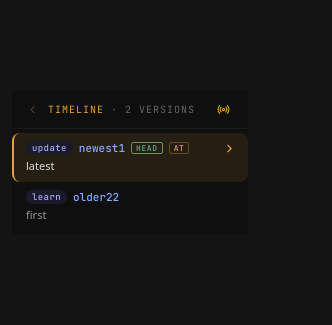
Test: starts with the active commit collapsed; clicking toggles it (no scrub)
Expected: the text "Sib" is not shown
Click the text "latest" at (40, 166), box left=26, top=158, right=54, bottom=173
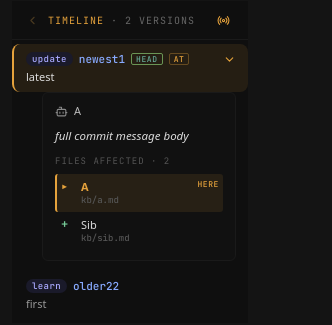
Now the text "Sib" is shown, box left=81, top=217, right=97, bottom=232
Click the text "latest" at (40, 77), box left=26, top=69, right=54, bottom=84
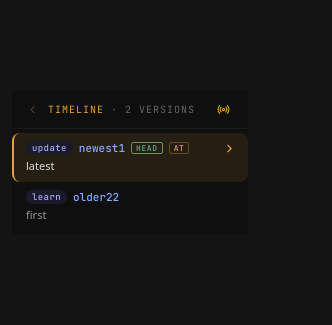
Now the button "Sib" is gone
